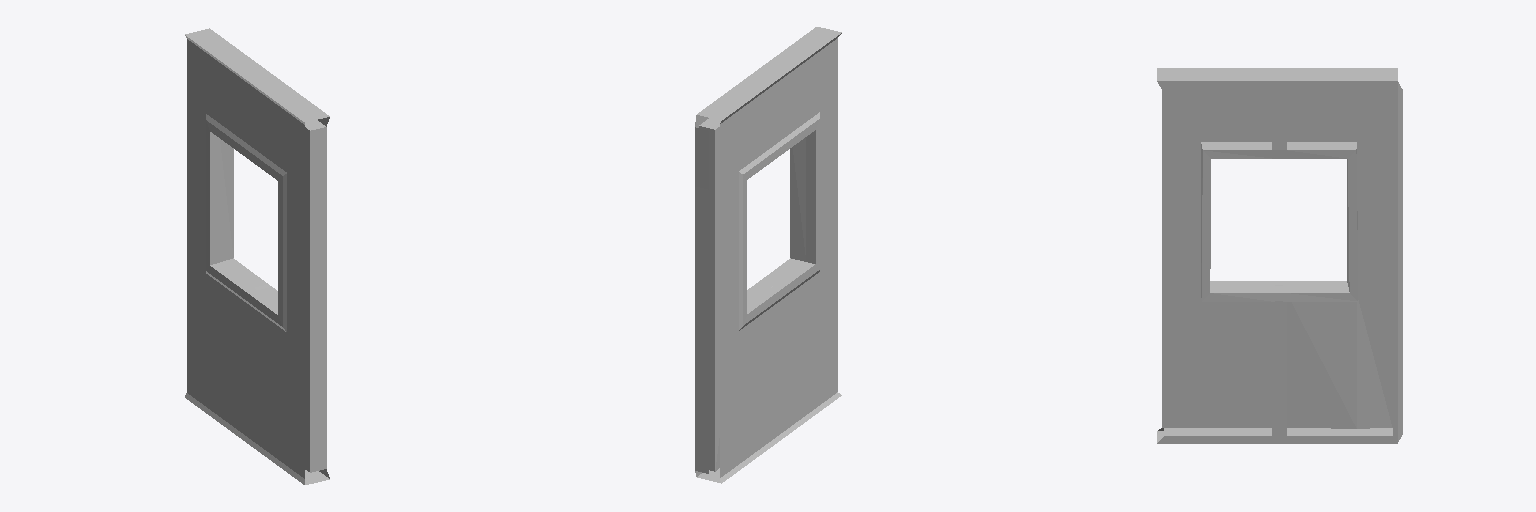
The model's file is window2.obj.
3 views of the same model, side by side, from view 1: azimuth 30°, elevation 25°; view 2: azimuth 150°, elevation 25°; view 3: azimuth 270°, elevation 25° (orthographic).
Parts seen in each view (by area): view 1: WindowWall; view 2: WindowWall; view 3: WindowWall.
Boxes of the visible parts, x1,y1,x2,y2 form: WindowWall: [185, 28, 329, 484]; WindowWall: [695, 27, 841, 483]; WindowWall: [1157, 68, 1402, 443].
Size of the model in its own units: 0.2242 by 3.06 by 1.88.